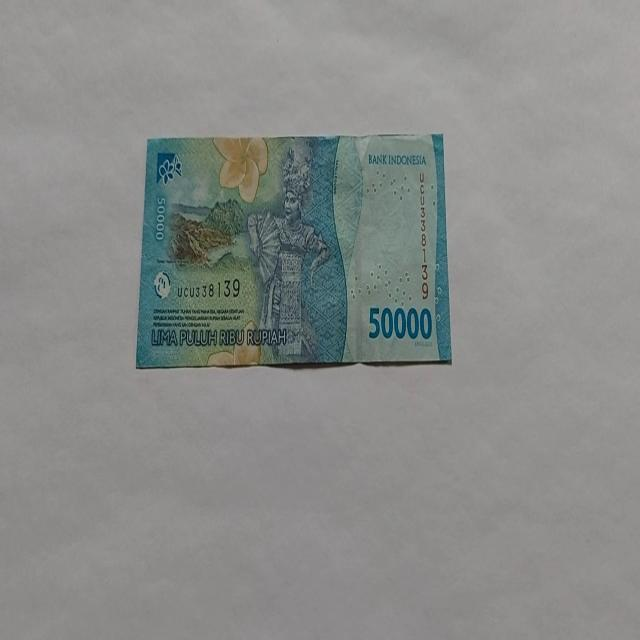lima puluh ribu rupiah: (134, 132, 452, 370), (246, 144, 332, 364)
